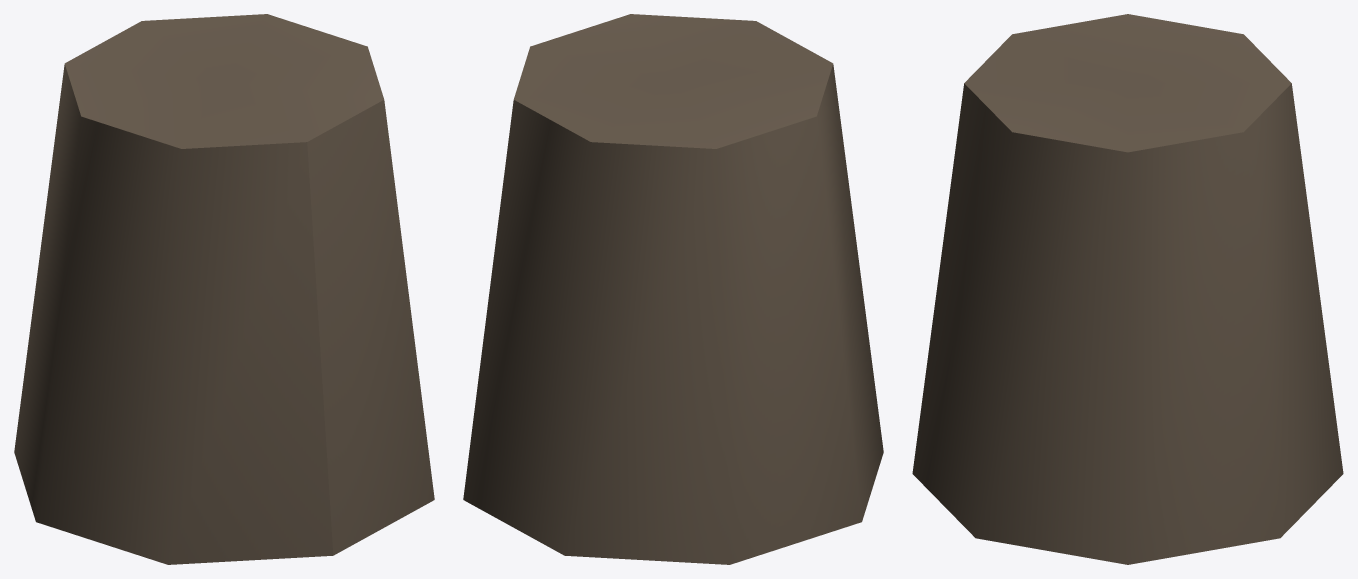
Rendered from stem-natural.glb.
3 renders of one model, left to right at view 1: azimuth 30°, elevation 25°; view 2: azimuth 150°, elevation 25°; view 3: azimuth 270°, elevation 25°, orthographic.
Visible parts, largest first — view 1: surface; view 2: surface; view 3: surface.
Part boxes in pixels (bbox=[...]): surface: bbox=[14, 14, 434, 564]; surface: bbox=[463, 14, 883, 564]; surface: bbox=[912, 14, 1343, 564].
Size of the model in its own units: 1 by 1 by 1.
